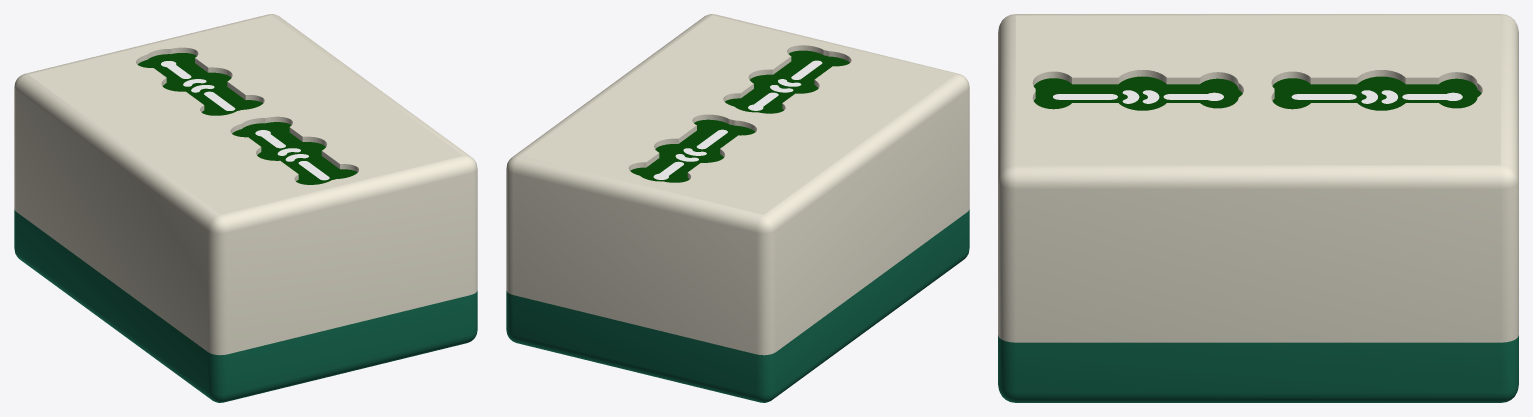
The model's file is Sou2.glb.
The picture shows the model from 3 angles, left to right: view 1: azimuth 30°, elevation 25°; view 2: azimuth 150°, elevation 25°; view 3: azimuth 270°, elevation 25°; orthographic projection. The views are drawn at different scales.
Visible parts, largest first — view 1: Sou2_body, Sou2_inset; view 2: Sou2_body, Sou2_inset; view 3: Sou2_body, Sou2_inset.
Part boxes in pixels (bbox=[...]): Sou2_body: bbox=[14, 14, 477, 402]; Sou2_inset: bbox=[137, 53, 357, 184]; Sou2_body: bbox=[506, 14, 969, 402]; Sou2_inset: bbox=[630, 50, 849, 182]; Sou2_body: bbox=[998, 14, 1518, 402]; Sou2_inset: bbox=[1033, 76, 1481, 110].
Size of the model in its own units: 0.024 by 0.016 by 0.032.
